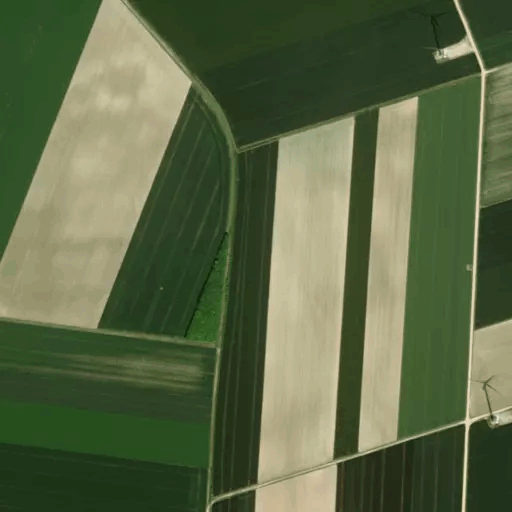wt: (466, 370, 510, 430), (415, 8, 459, 62)
